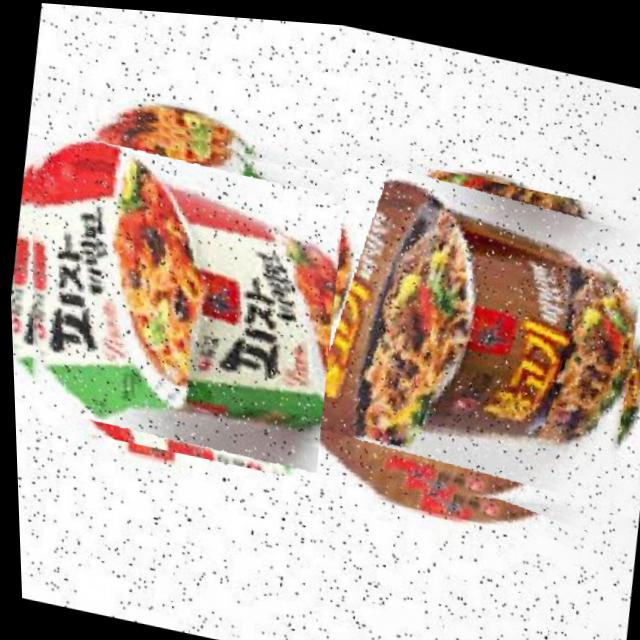Miscellaneous: (268, 137, 640, 542), (2, 89, 358, 480)
